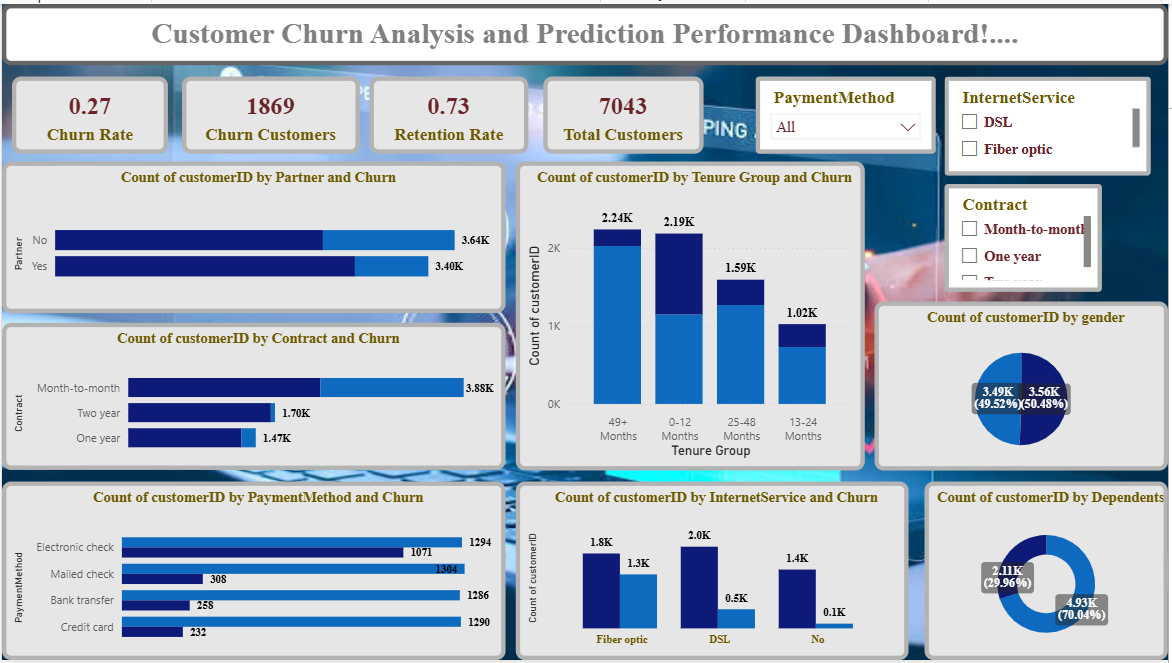

This screenshot's page, from the dashboard's own definition file:
{"tool":"powerbi","page":{"name":"Page 1","canvas":[1280,720],"ordinal":0},"visuals":[{"type":"card","fields":{"Values":["Churn_Dataset.Churn Rate"]},"box":[11,79.6,171.5,85.1],"z":0},{"type":"barChart","fields":{"Y":["CountNonNull(Churn_Dataset.customerID)"],"Series":["Churn_Dataset.Churn"],"Category":["Churn_Dataset.Partner"]},"box":[0,172.9,553,166],"z":1000},{"type":"barChart","fields":{"Y":["CountNonNull(Churn_Dataset.customerID)"],"Series":["Churn_Dataset.Churn"],"Category":["Churn_Dataset.Contract"]},"box":[0,349.9,553,161.9],"z":2000},{"type":"clusteredColumnChart","fields":{"Y":["CountNonNull(Churn_Dataset.customerID)"],"Series":["Churn_Dataset.Churn"],"Category":["Churn_Dataset.InternetService"]},"box":[564,524.2,430.9,196.2],"z":3000},{"type":"slicer","fields":{"Values":["Churn_Dataset.Contract"]},"box":[1034.7,197.6,172.9,118],"z":4000},{"type":"textbox","box":[0,0,1280.3,67.2],"z":5000},{"type":"card","fields":{"Values":["Churn_Dataset.Retention Rate"]},"box":[403.4,79.6,174.3,85.1],"z":6000},{"type":"clusteredBarChart","fields":{"Y":["CountNonNull(Churn_Dataset.customerID)"],"Series":["Churn_Dataset.Churn"],"Category":["Churn_Dataset.PaymentMethod"]},"box":[0,524.2,553,196.2],"z":7000},{"type":"donutChart","fields":{"Y":["CountNonNull(Churn_Dataset.customerID)"],"Category":["Churn_Dataset.Dependents"]},"box":[1012.7,524.2,267.6,196.2],"z":8000},{"type":"card","fields":{"Values":["Churn_Dataset.Churn Customers"]},"box":[197.6,79.6,194.9,85.1],"z":9000},{"type":"slicer","fields":{"Values":["Churn_Dataset.PaymentMethod"]},"box":[827.4,79.6,197.6,85.1],"z":10000},{"type":"card","fields":{"Values":["Churn_Dataset.Total Customers"]},"box":[594.2,79.6,175.6,85.1],"z":11000},{"type":"columnChart","fields":{"Y":["CountNonNull(Churn_Dataset.customerID)"],"Series":["Churn_Dataset.Churn"],"Category":["Churn_Dataset.Tenure Group"]},"box":[564,172.9,382.8,338.9],"z":12000},{"type":"pieChart","fields":{"Category":["Churn_Dataset.gender"],"Y":["CountNonNull(Churn_Dataset.customerID)"]},"box":[957.8,326.6,322.5,185.2],"z":13000},{"type":"slicer","fields":{"Values":["Churn_Dataset.InternetService"]},"box":[1034.7,79.6,226.4,108.4],"z":14000}]}

Visuals, with their boxes in screenshot pixels (x1, y1, x2, y2), scaled from the page's 1280x720 canvas onto the 1172x663 screenshot:
card - Churn_Dataset.Churn Rate: Rect(10, 73, 167, 152)
barChart - CountNonNull(Churn_Dataset.customerID) x Churn_Dataset.Churn: Rect(0, 159, 506, 312)
barChart - CountNonNull(Churn_Dataset.customerID) x Churn_Dataset.Churn: Rect(0, 322, 506, 471)
clusteredColumnChart - CountNonNull(Churn_Dataset.customerID) x Churn_Dataset.Churn: Rect(516, 483, 911, 662)
slicer - Churn_Dataset.Contract: Rect(947, 182, 1106, 291)
textbox: Rect(0, 0, 1171, 62)
card - Churn_Dataset.Retention Rate: Rect(369, 73, 529, 152)
clusteredBarChart - CountNonNull(Churn_Dataset.customerID) x Churn_Dataset.Churn: Rect(0, 483, 506, 662)
donutChart - CountNonNull(Churn_Dataset.customerID) x Churn_Dataset.Dependents: Rect(927, 483, 1171, 662)
card - Churn_Dataset.Churn Customers: Rect(181, 73, 359, 152)
slicer - Churn_Dataset.PaymentMethod: Rect(758, 73, 939, 152)
card - Churn_Dataset.Total Customers: Rect(544, 73, 705, 152)
columnChart - CountNonNull(Churn_Dataset.customerID) x Churn_Dataset.Churn: Rect(516, 159, 867, 471)
pieChart - Churn_Dataset.gender x CountNonNull(Churn_Dataset.customerID): Rect(877, 301, 1171, 471)
slicer - Churn_Dataset.InternetService: Rect(947, 73, 1155, 173)
